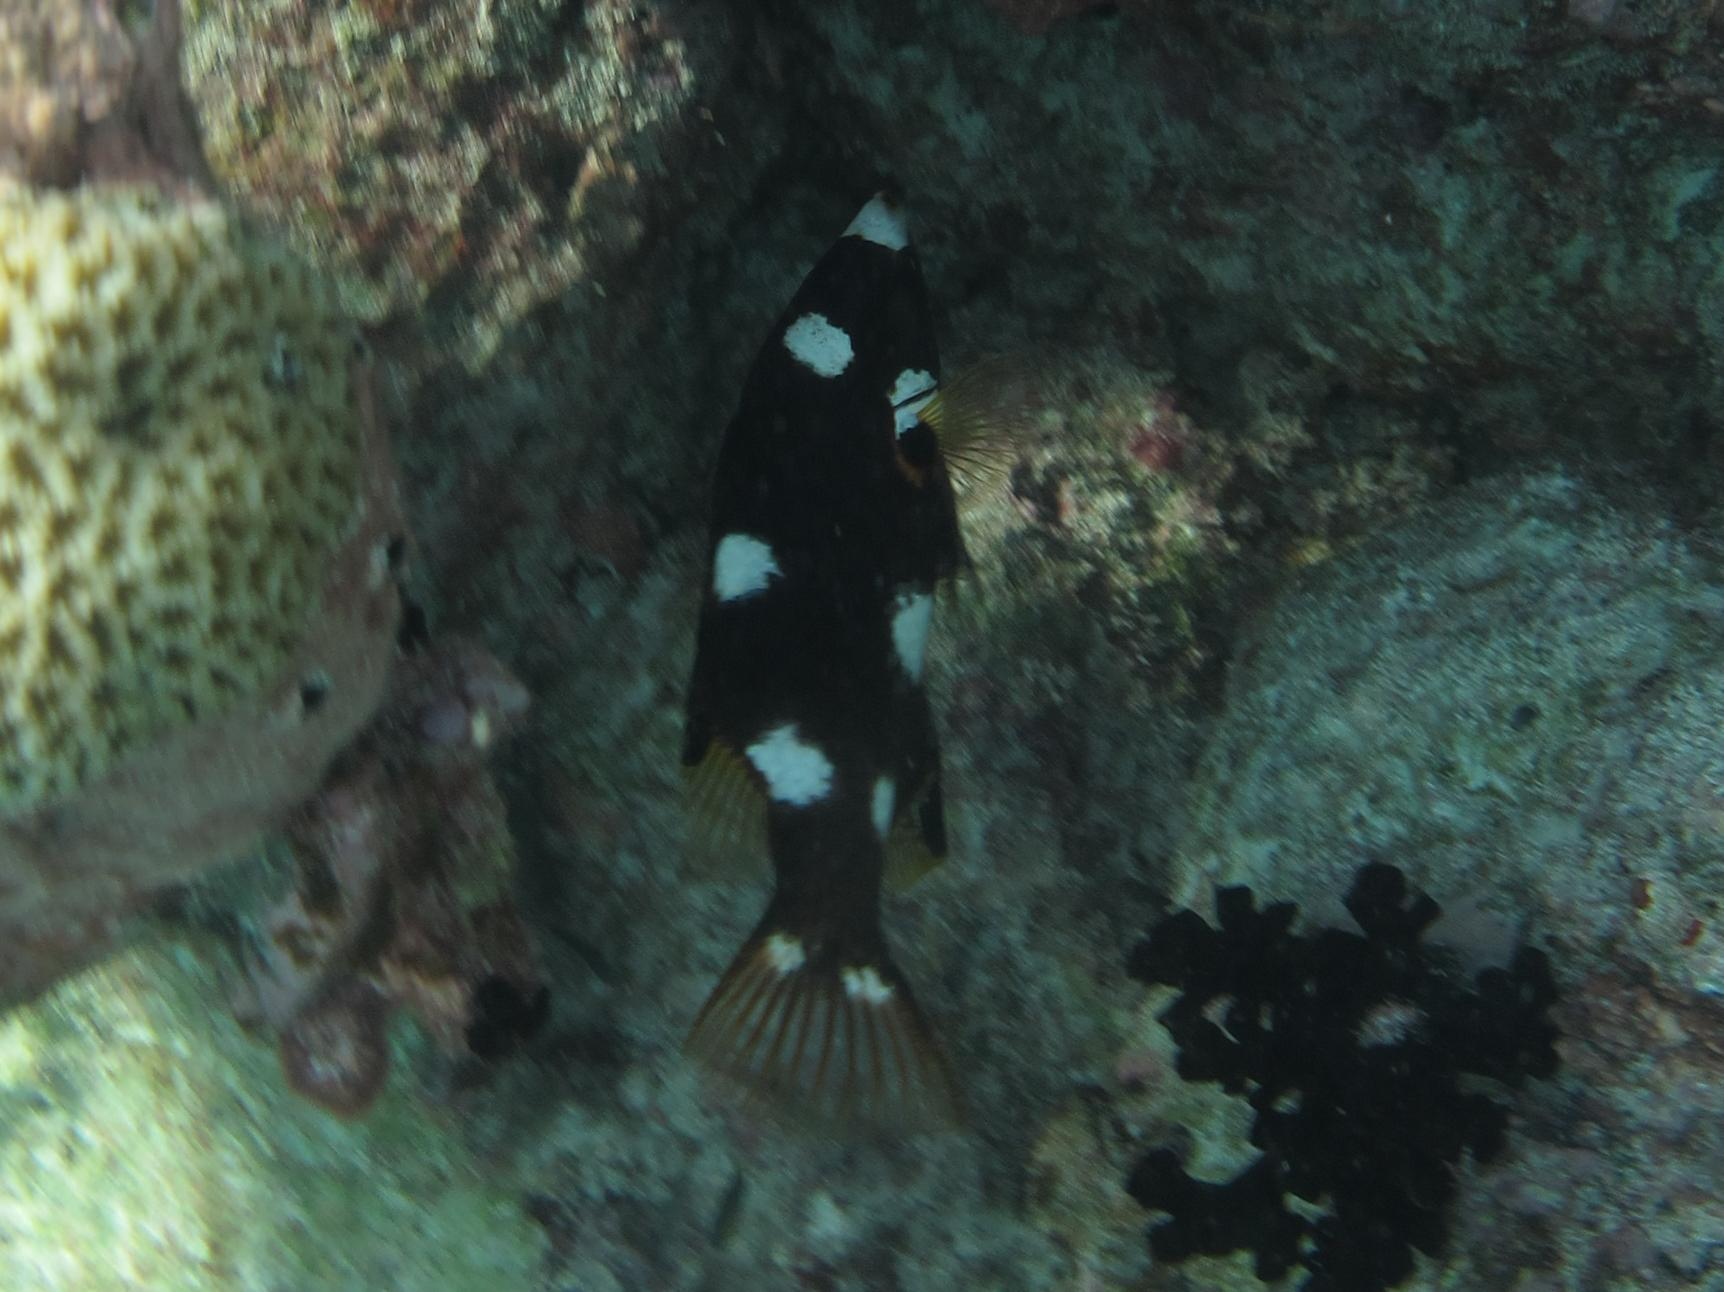Fish: (578, 144, 1125, 1220)
